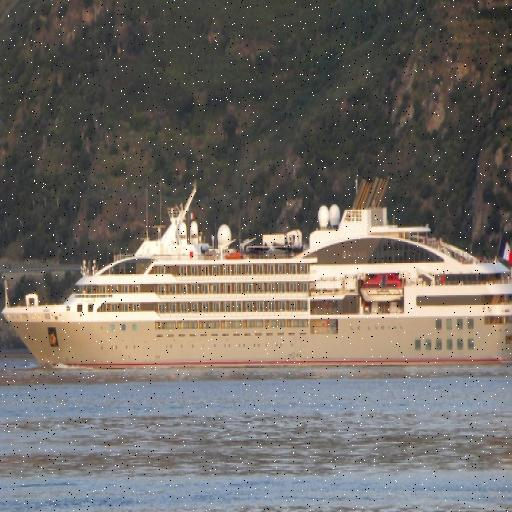cruises: (1, 176, 512, 384)
